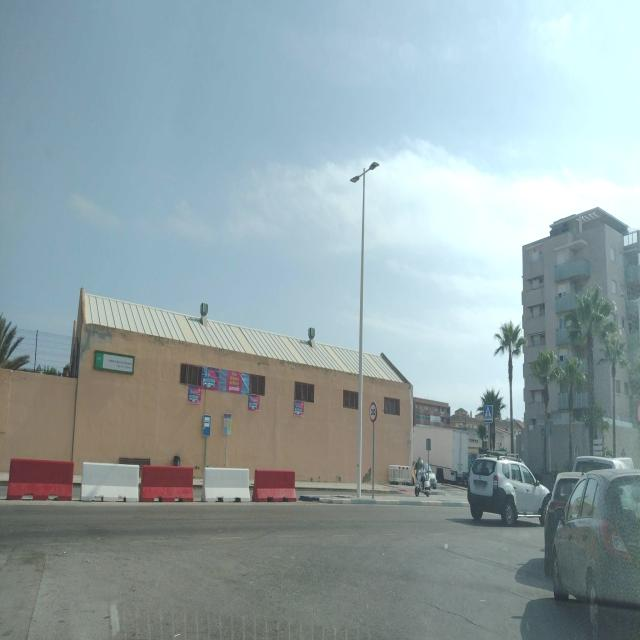bike: (410, 472, 434, 501)
car: (552, 468, 640, 636), (467, 456, 550, 525), (543, 472, 584, 571), (571, 455, 620, 476)
